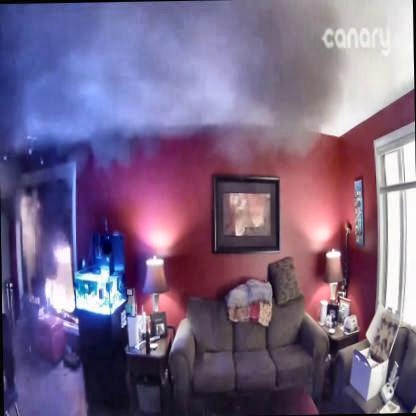smoke: (0, 5, 365, 169)
